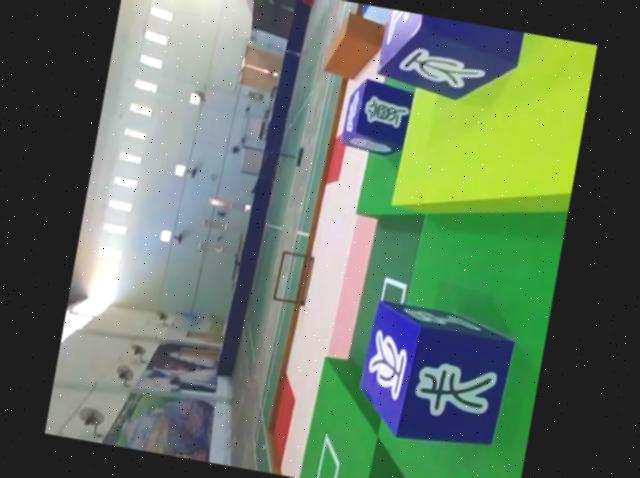R2 Fake Blue: (351, 296, 523, 454), (374, 9, 526, 109), (339, 76, 417, 159)
